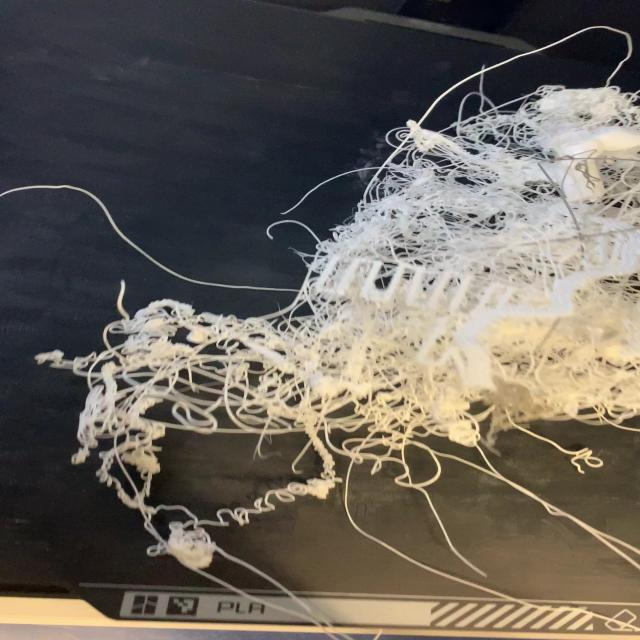spaghetti: (8, 24, 636, 636)
